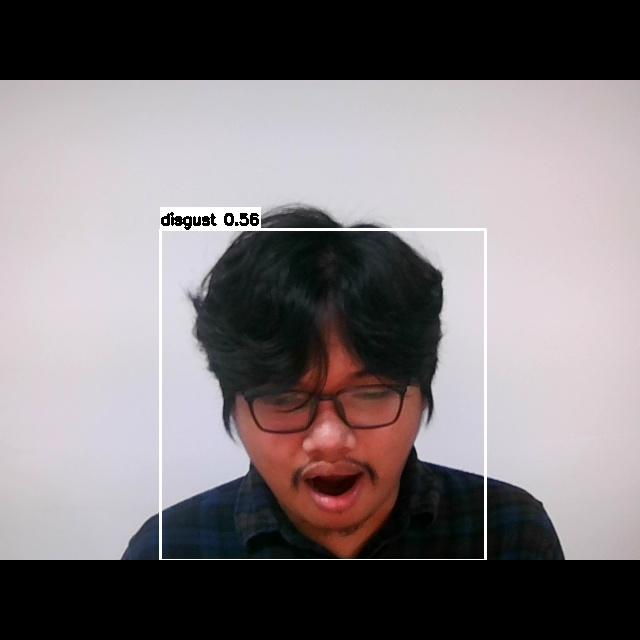Surprised: (216, 364, 435, 525)
